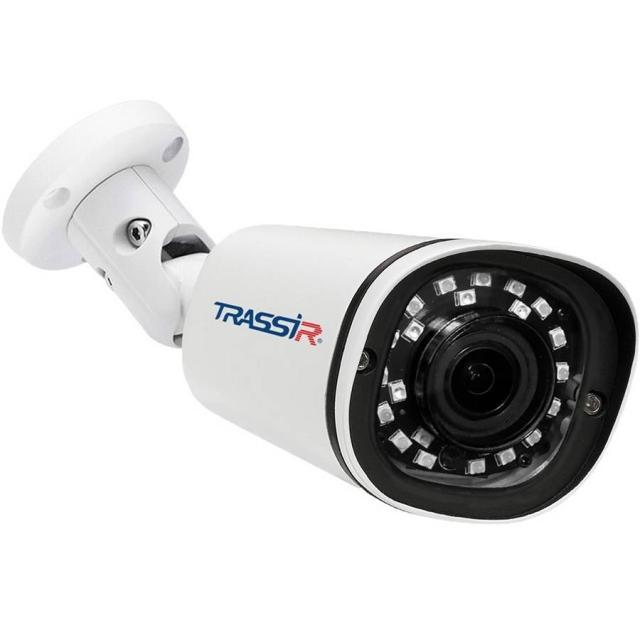hidden camera: (432, 313, 551, 451)
